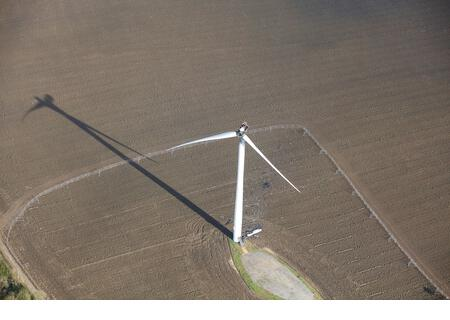faulty: (165, 119, 306, 246)
